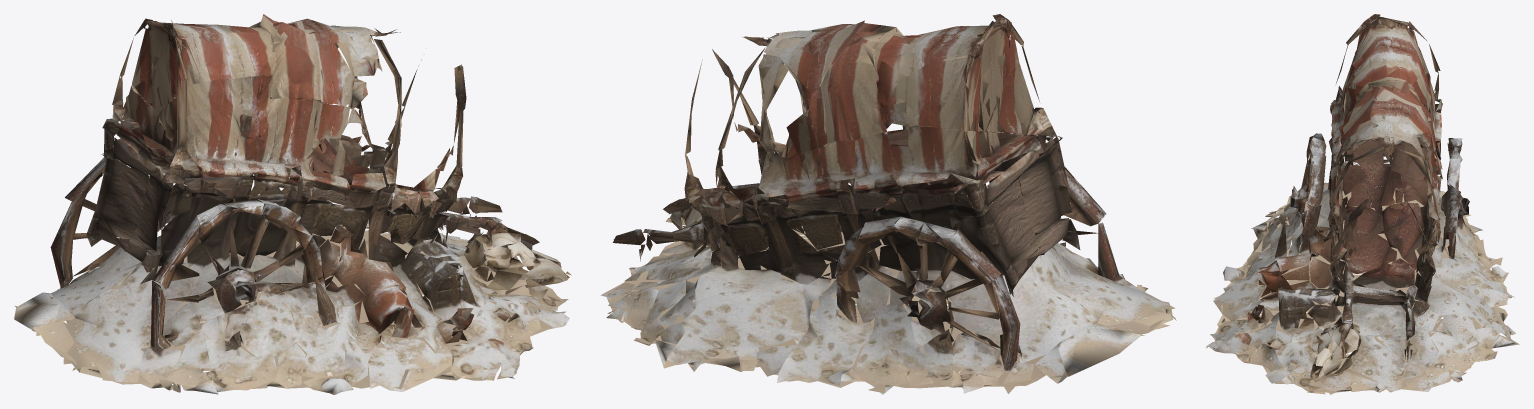
The model's file is CaravanWreck.fbx.
3 views of the same model, side by side, from view 1: azimuth 30°, elevation 25°; view 2: azimuth 150°, elevation 25°; view 3: azimuth 270°, elevation 25° (orthographic). The views are drawn at different scales.
Visible parts, largest first — view 1: CaravanWreck_Body; view 2: CaravanWreck_Body; view 3: CaravanWreck_Body.
Part boxes in pixels (x1,y1,x2,y2): CaravanWreck_Body: (14, 14, 571, 394); CaravanWreck_Body: (600, 14, 1176, 394); CaravanWreck_Body: (1205, 14, 1519, 394).
Bounding box in the file's own units: 1.55 × 0.9932 × 1.12.
Materials: 1 (1 with a texture image).
